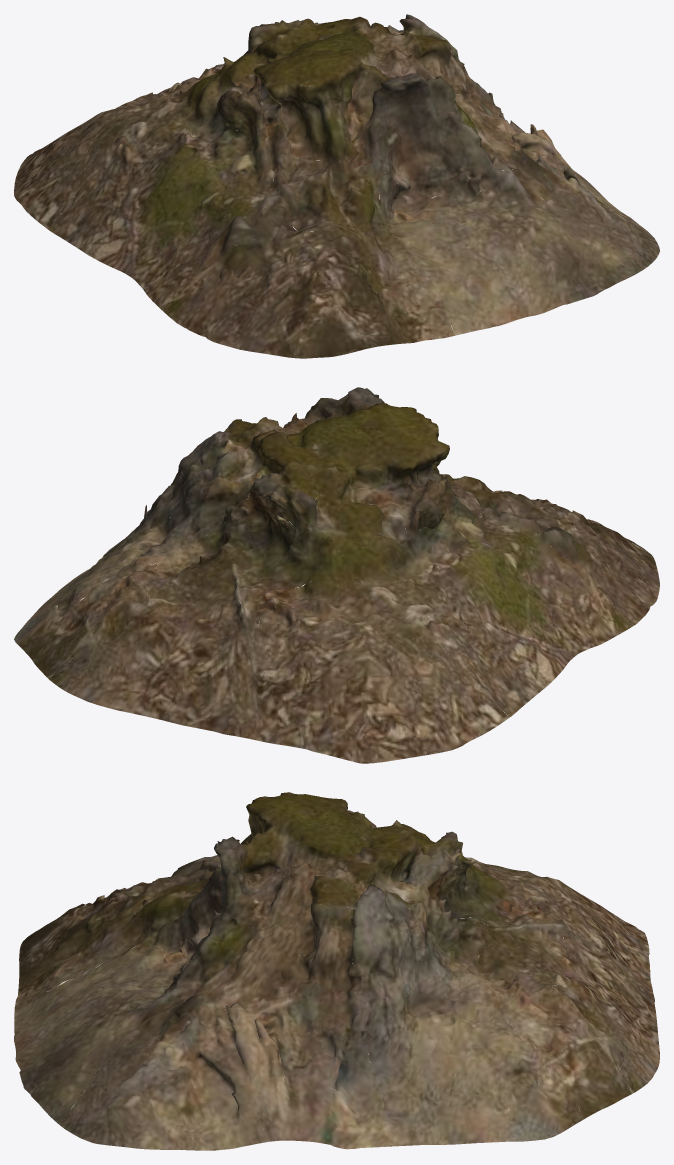
The model's file is env_tree_stump.glb.
The picture shows the model from 3 angles, top to bottom: view 1: azimuth 30°, elevation 25°; view 2: azimuth 150°, elevation 25°; view 3: azimuth 270°, elevation 25°; orthographic projection. The views are drawn at different scales.
Visible parts, largest first — view 1: ENV_tree_stump_01; view 2: ENV_tree_stump_01; view 3: ENV_tree_stump_01.
Part boxes in pixels (x1,y1,x2,y2): ENV_tree_stump_01: [14, 14, 659, 358]; ENV_tree_stump_01: [14, 387, 659, 763]; ENV_tree_stump_01: [14, 792, 659, 1150].
Bounding box in the file's own units: 2.86 × 1.15 × 3.2.
1 material, 1 textured.
